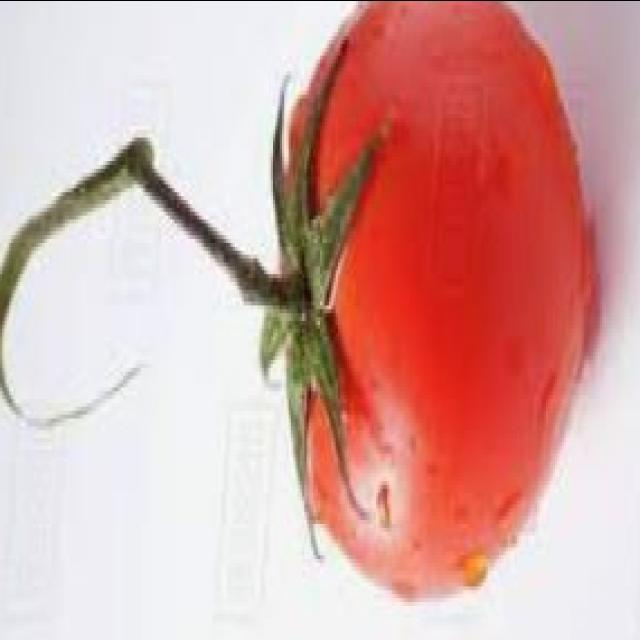Healthy: (240, 0, 584, 612)
